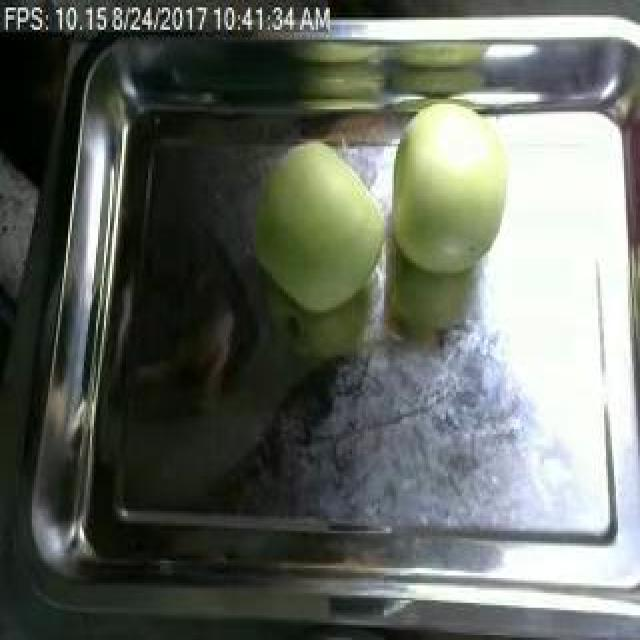Rotten Apple: (390, 72, 540, 300), (254, 118, 388, 331)
